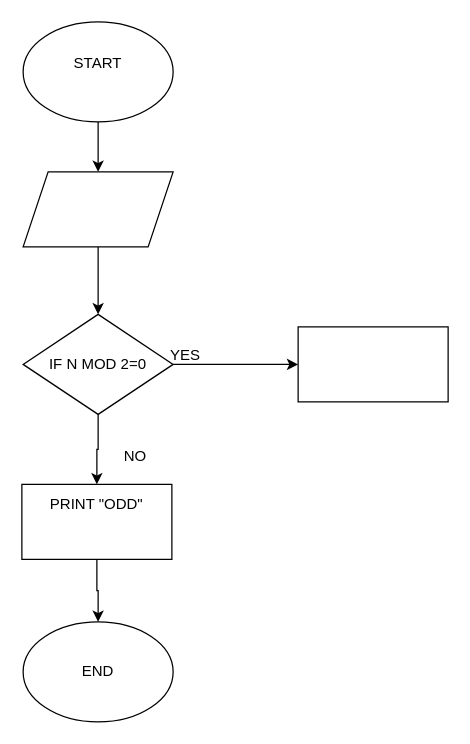
Image size: 470x744. Some labels were removed from this diagram. Here are the shapes that lost their labels. From the top down, the box of each, then its label:
(22, 171, 173, 247): INPUT N
(297, 326, 448, 402): PRINT "EVEN"
